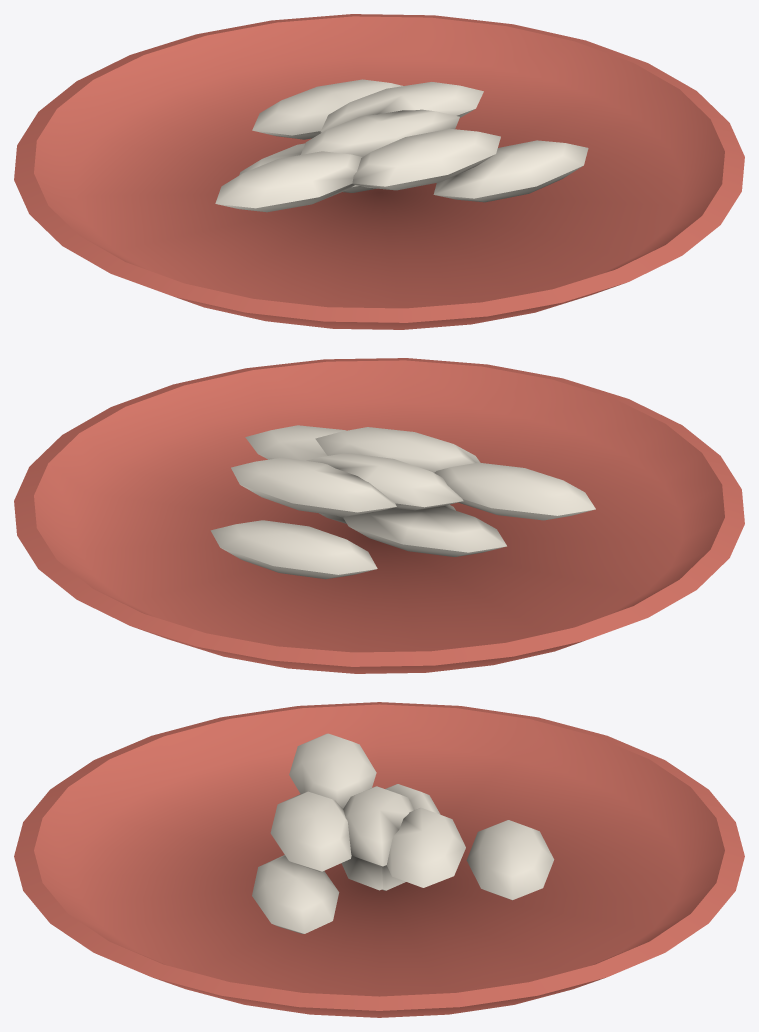
Rendered from dish_stirfry.glb.
The picture shows the model from 3 angles, top to bottom: view 1: azimuth 30°, elevation 25°; view 2: azimuth 150°, elevation 25°; view 3: azimuth 270°, elevation 25°; orthographic projection.
Visible parts, largest first — view 1: PART; view 2: PART; view 3: PART.
Part boxes in pixels (x1=…): PART: x1=14, y1=14, x2=744, y2=329; PART: x1=14, y1=358, x2=744, y2=673; PART: x1=14, y1=702, x2=744, y2=1017.
Bounding box in the file's own units: 0.22 × 0.0355 × 0.22.
